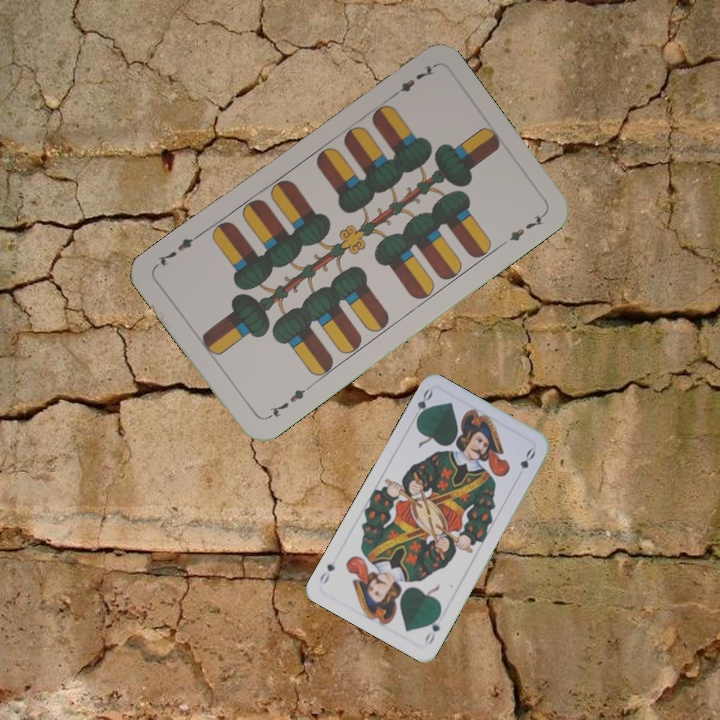E7: (386, 60, 437, 102), (261, 382, 313, 422)
GO: (408, 385, 435, 425), (421, 609, 443, 647)
